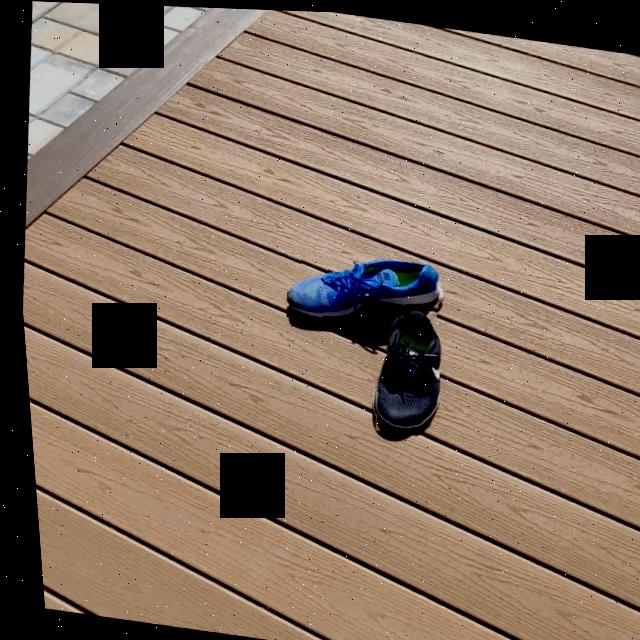shoe: (281, 257, 436, 319), (368, 316, 436, 430)
